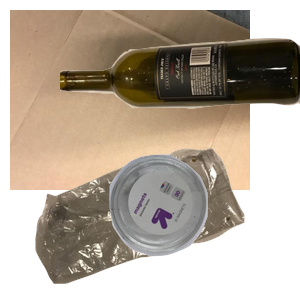cardboard: (10, 10, 250, 190)
glass: (60, 36, 300, 147)
plastic: (107, 152, 300, 300)
trash: (33, 145, 270, 300)
